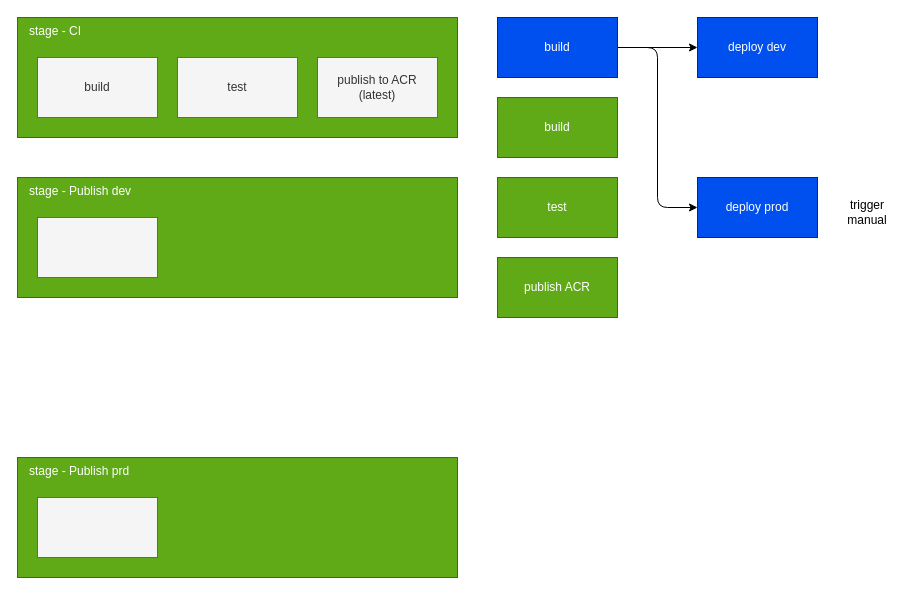
This 915x595 diagram has some shape labels left out. The centre of each missing label's shape, as x and y in pixels:
- download latest - retag - publish: point (97, 527)
publish latest: point (97, 247)
